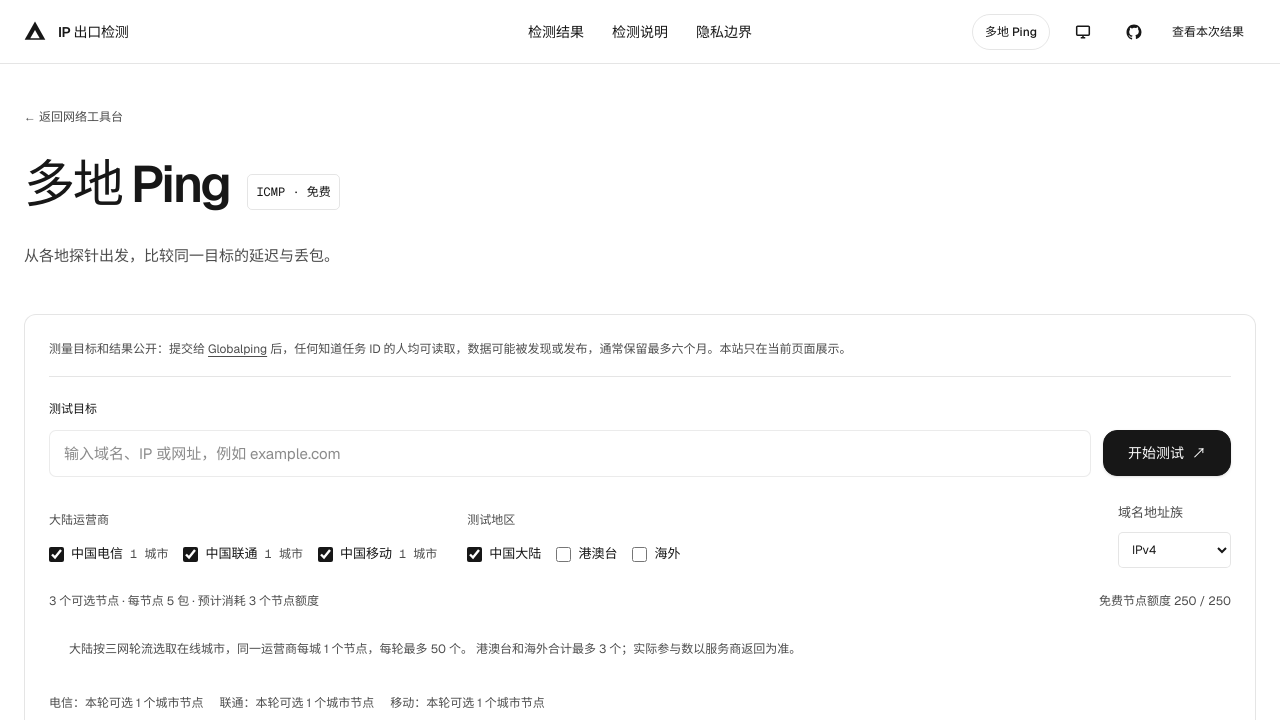
多地 Ping 独立页面 › 目标 localhost 在本地拒绝，不会创建第三方测量
Check: the text "3 个可选节点 · 每节点 5 包 · 预计消耗 3 个节点额度" is shown, box [49, 590, 319, 614]
Click the field labelled "测试目标" at (570, 454), box [49, 430, 1091, 478]
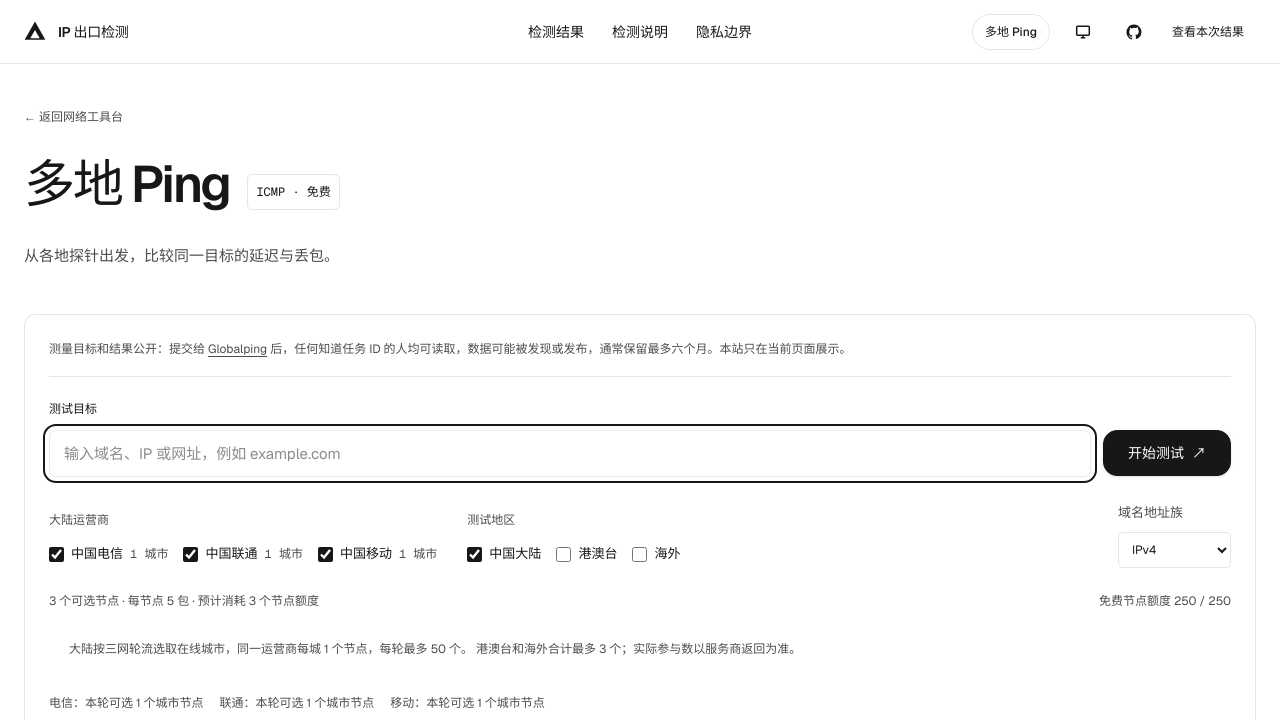
Type keys "localhost"
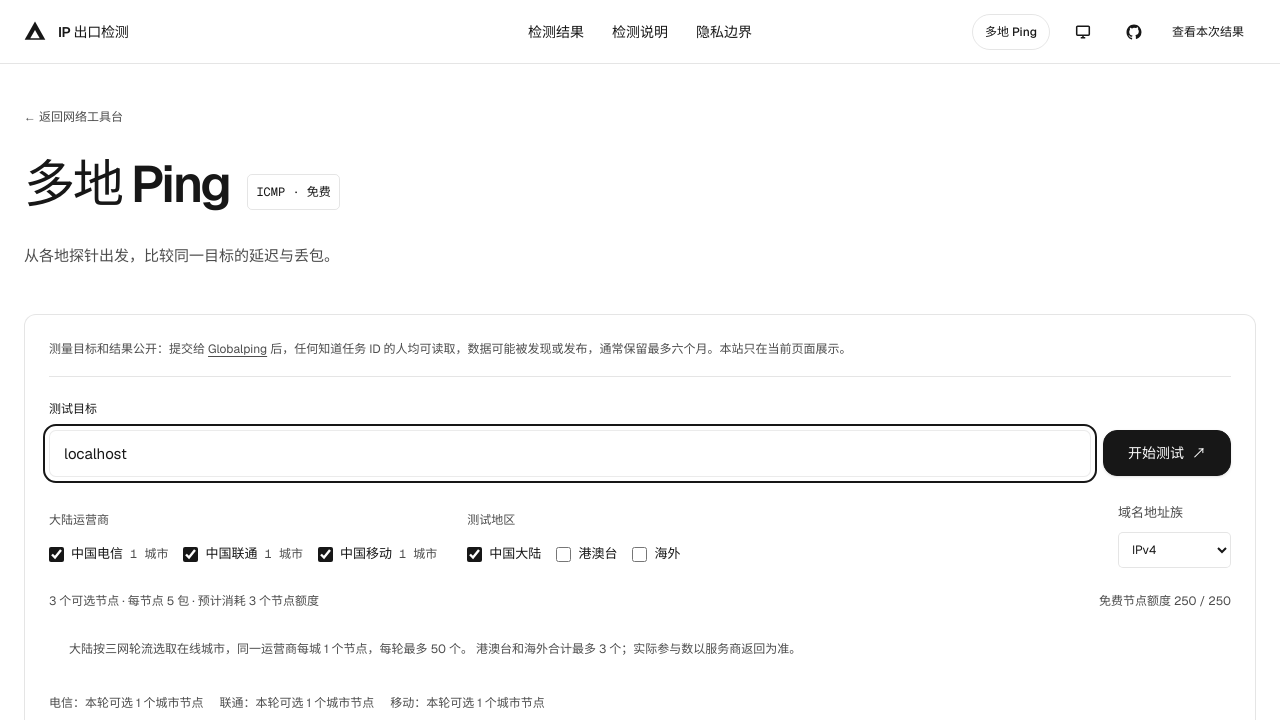
Press Enter
(page scrolled)
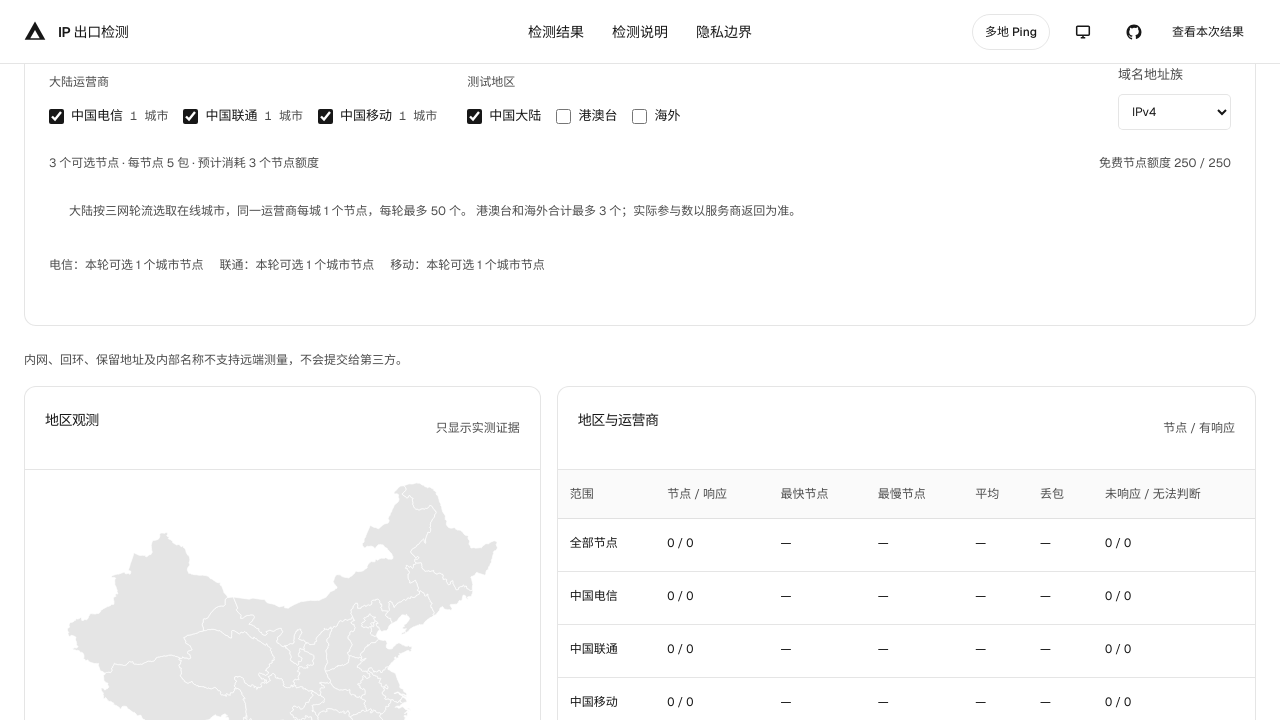
Check: the message reads "内网、回环、保留地址及内部名称不支持远端测量，不会提交给第三方。", box [24, 352, 408, 368]
